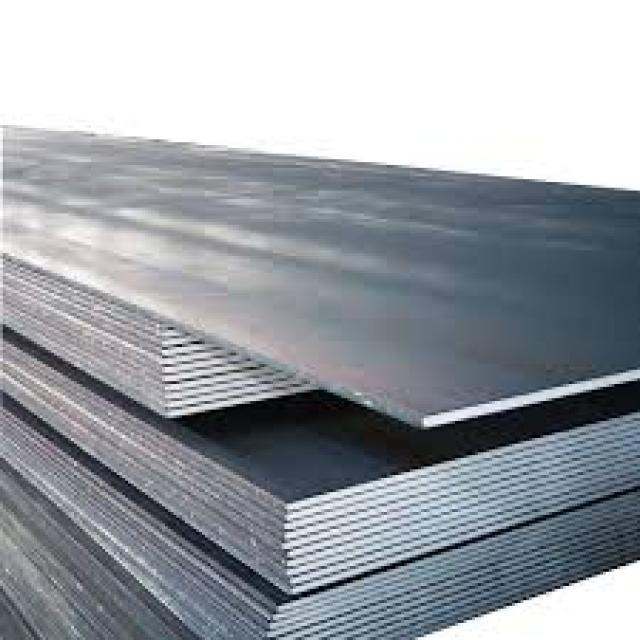Dry Waste: (3, 128, 640, 634)
